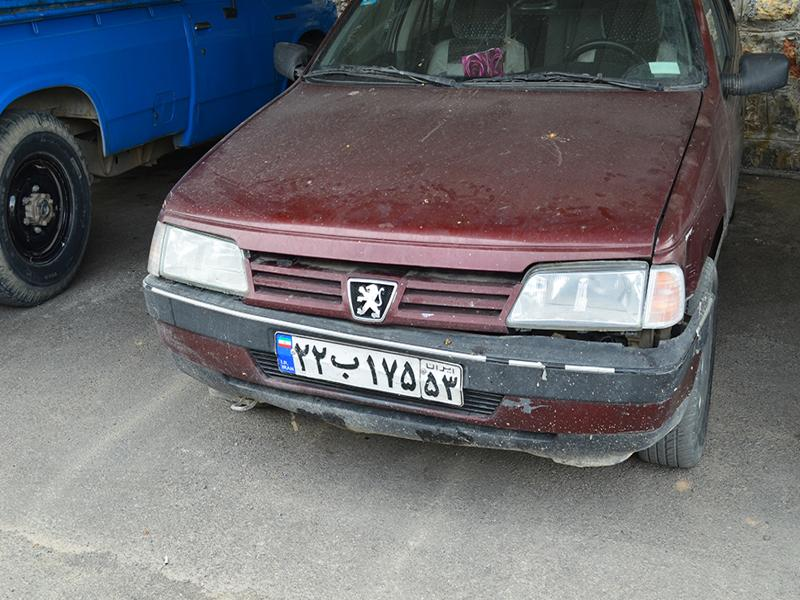Plate: (277, 329, 464, 401)
